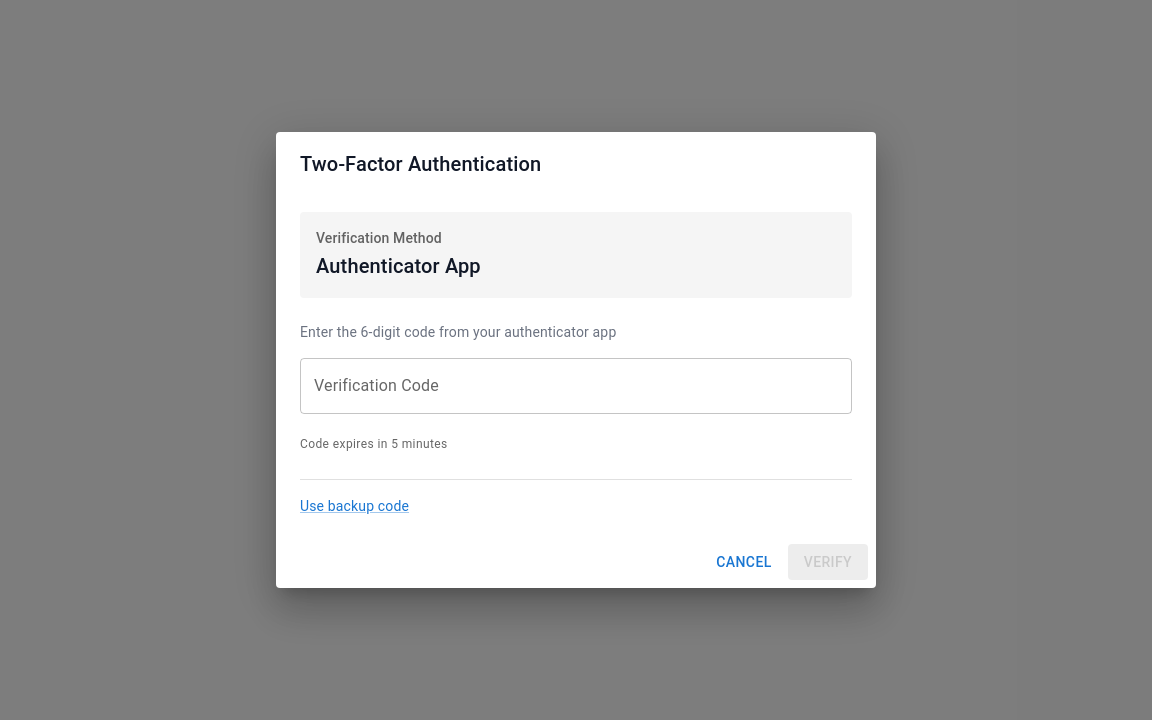
TwoFactorVerificationModal › TOTP Method › should display error on verification failure
In the field with placeholder "000000": (576, 386) [300,358,852,414], type "123456"
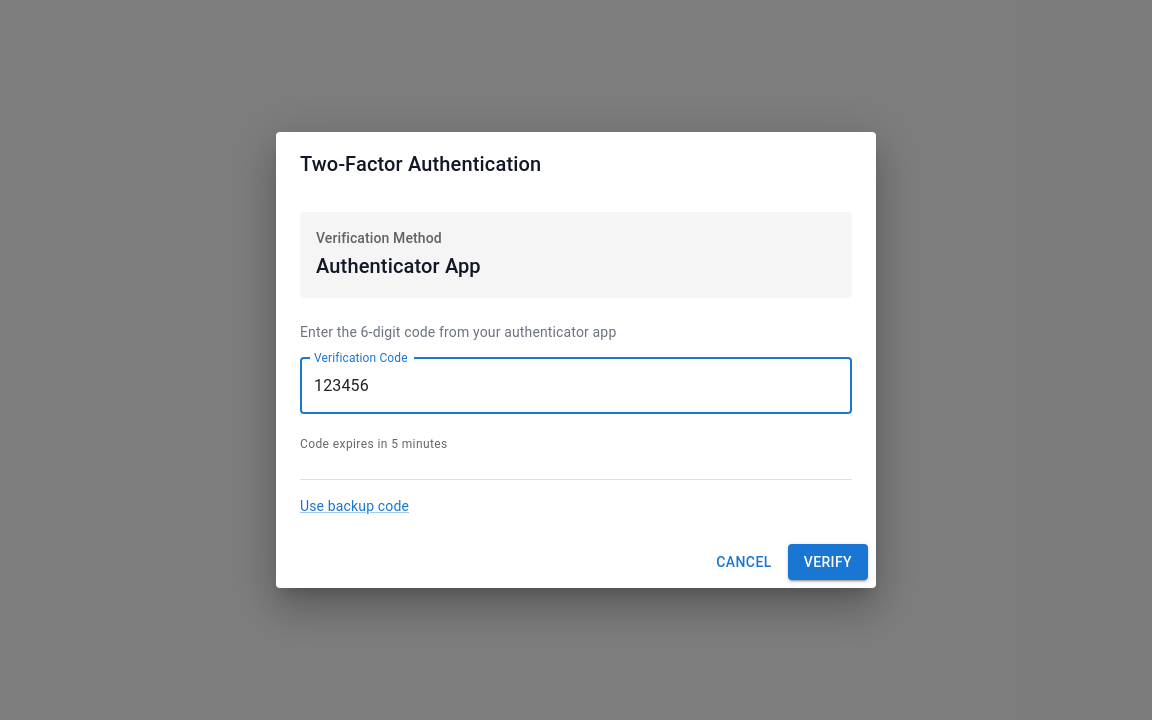
Click the button "Verify": click(828, 562) [788,544,868,580]
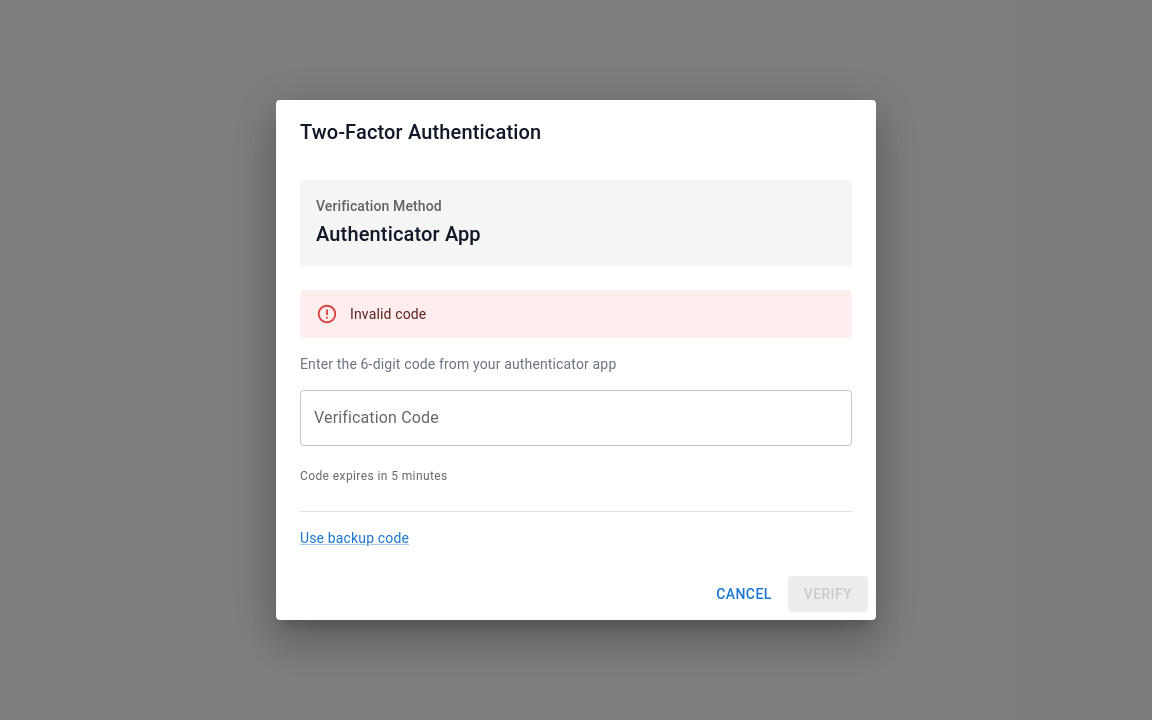
expect the text "Invalid code" is shown: met, box [350,306,426,322]
